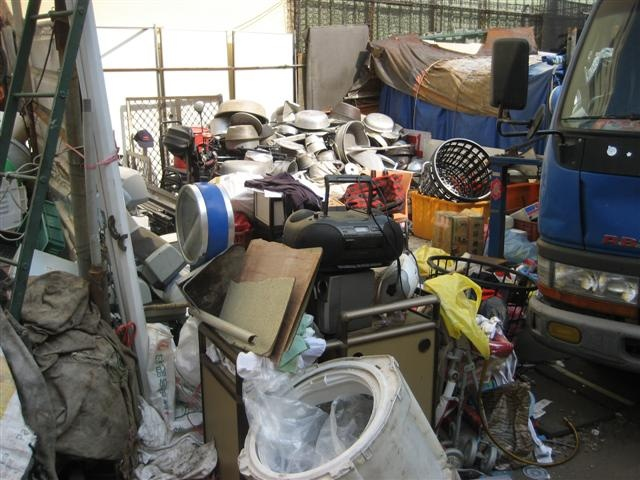bowl: (333, 121, 371, 164), (216, 100, 270, 123), (292, 109, 329, 131), (364, 110, 395, 134), (224, 125, 262, 141), (334, 102, 363, 122), (294, 151, 320, 169)
bucket: (235, 354, 464, 480)
plastic_bag: (238, 345, 348, 465), (350, 37, 503, 118), (426, 269, 495, 360)
